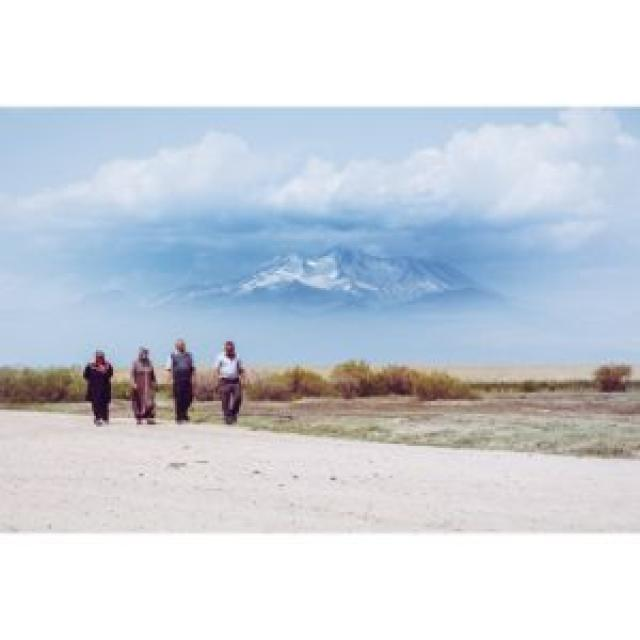nonfall: (212, 340, 244, 424), (87, 344, 114, 430), (127, 347, 156, 424), (167, 342, 196, 416)
